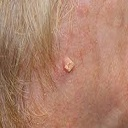Carcinoma: (58, 55, 78, 75)
